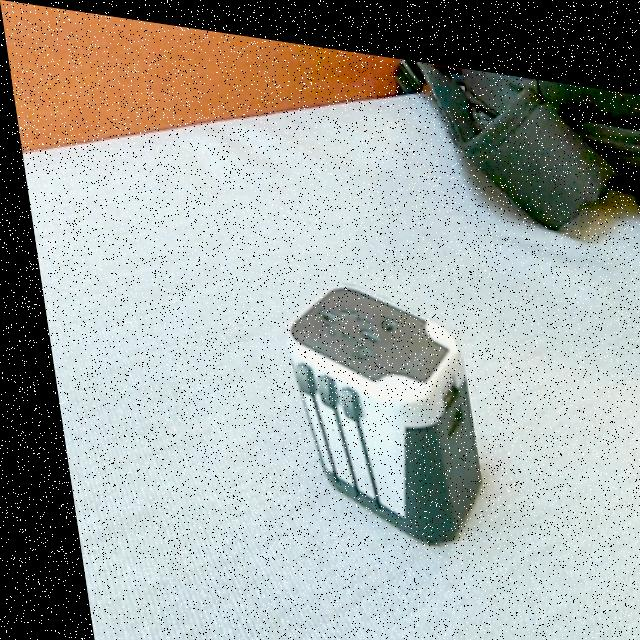adapter: (268, 266, 478, 541)
